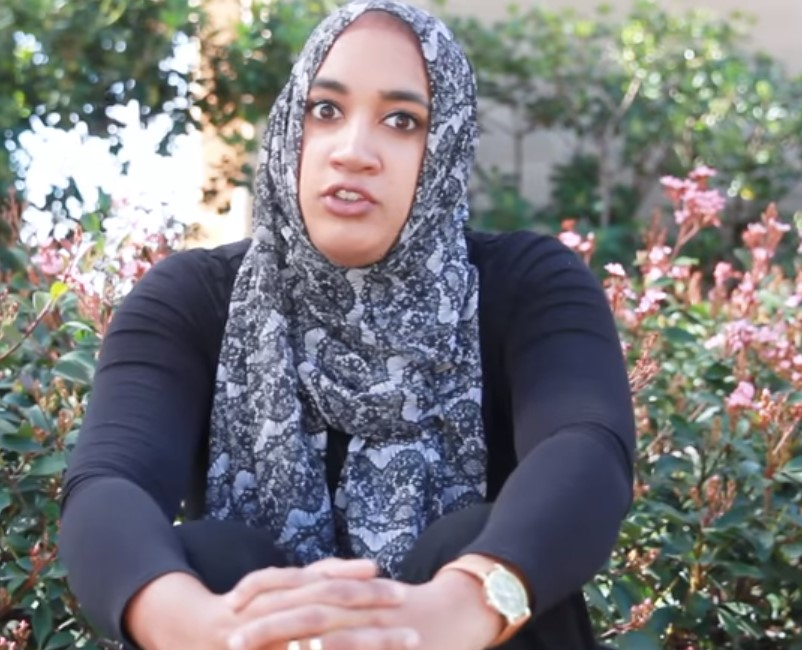face_no_mask: (282, 8, 463, 287)
